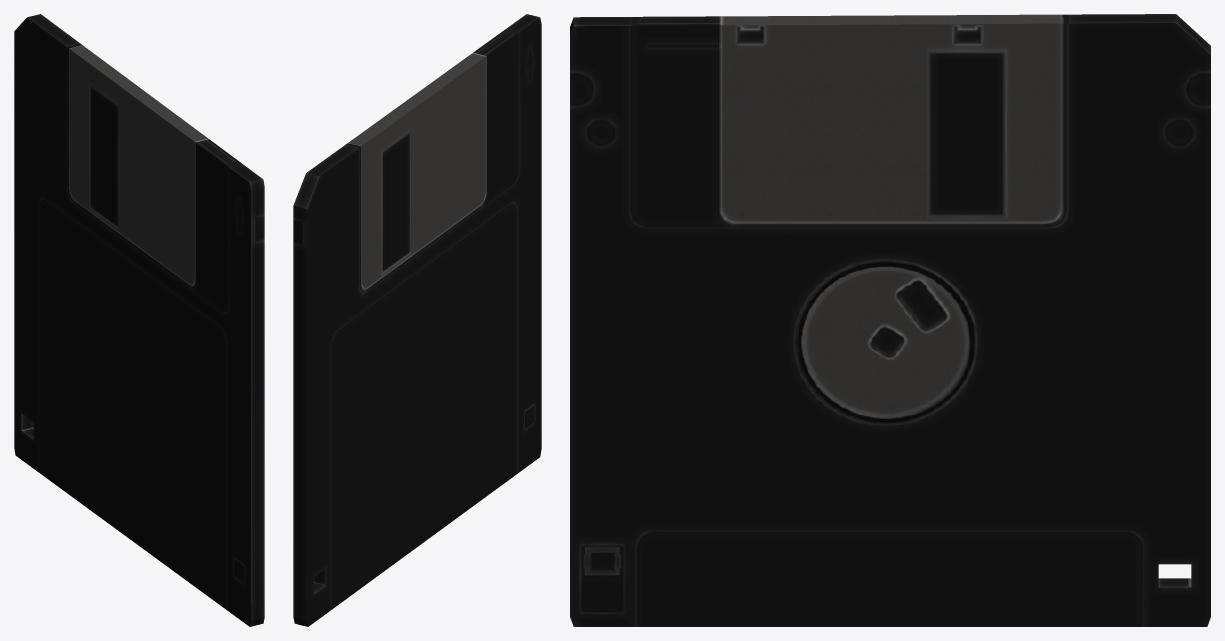
File: floppy.glb
3 renders of one model, left to right at view 1: azimuth 30°, elevation 25°; view 2: azimuth 150°, elevation 25°; view 3: azimuth 270°, elevation 25°, orthographic. The views are drawn at different scales.
Parts seen in each view (by area): view 1: 79020; view 2: 79020; view 3: 79020.
Part boxes in pixels (bbox=[...]): 79020: bbox=[14, 14, 264, 626]; 79020: bbox=[293, 14, 541, 626]; 79020: bbox=[570, 14, 1210, 626].
Size of the model in its own units: 0.0544 by 1.7 by 1.63.
Materials: 1 (1 with a texture image).
